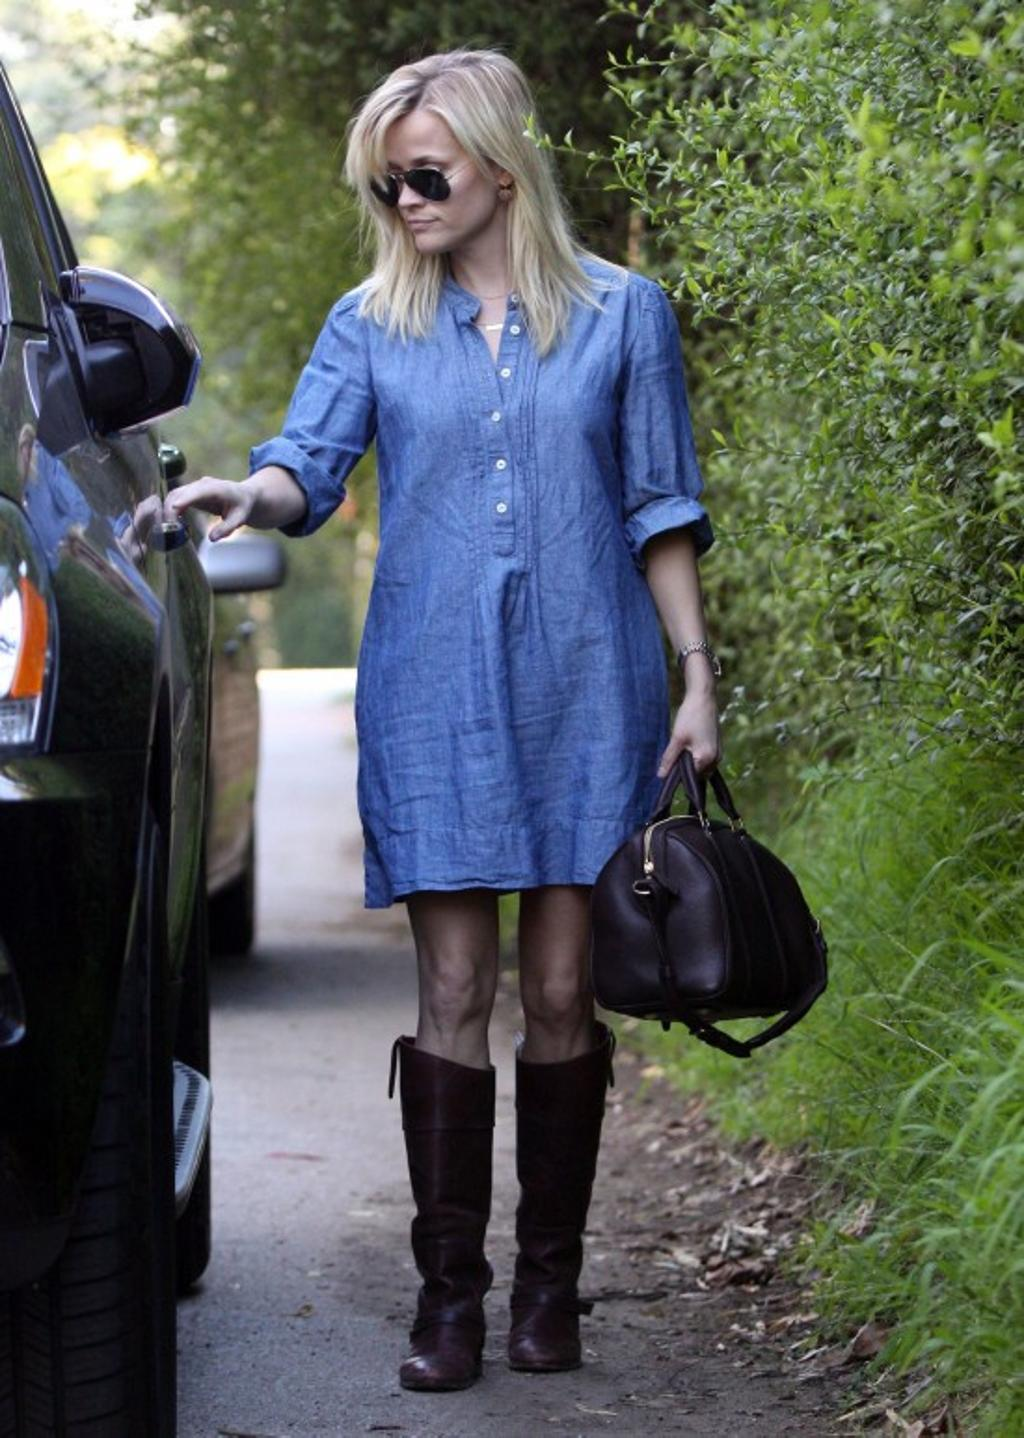face: (384, 107, 496, 250)
